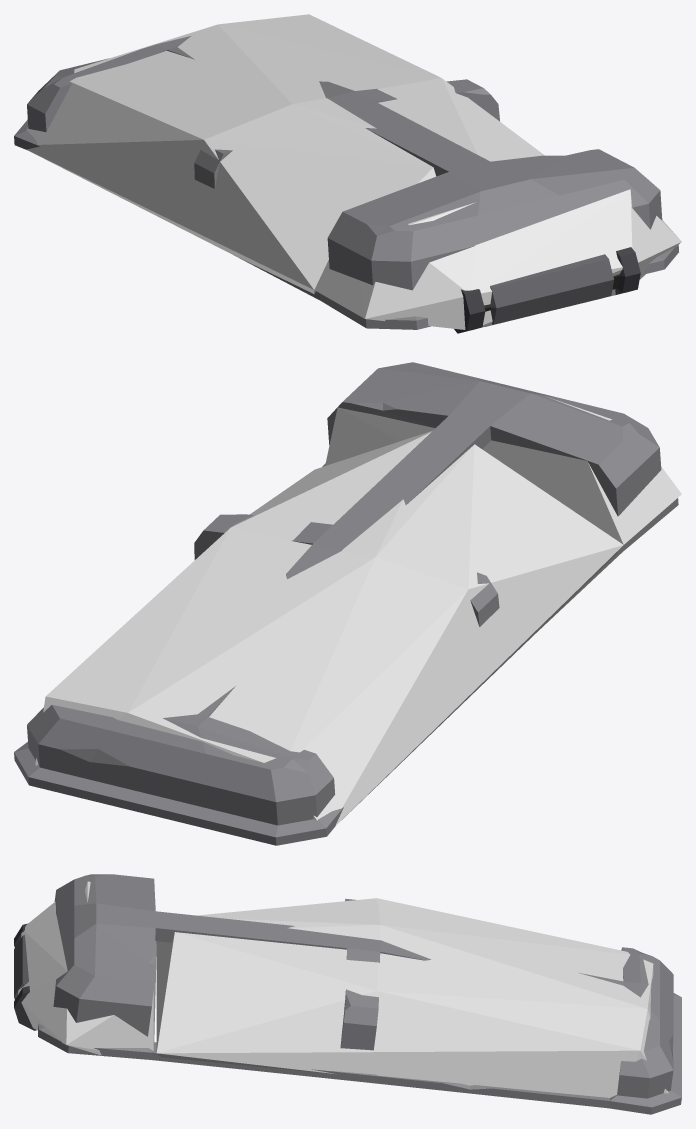
The model's file is SM_Prop_CryoBed_Lid_01.fbx.
The picture shows the model from 3 angles, top to bottom: view 1: azimuth 30°, elevation 25°; view 2: azimuth 150°, elevation 25°; view 3: azimuth 270°, elevation 25°; orthographic projection. The views are drawn at different scales.
Visible parts, largest first — view 1: SM_Prop_CryoBed_Lid_01_ConvexHulls, SM_Prop_CryoBed_Lid_01_LOD0; view 2: SM_Prop_CryoBed_Lid_01_ConvexHulls, SM_Prop_CryoBed_Lid_01_LOD0; view 3: SM_Prop_CryoBed_Lid_01_ConvexHulls, SM_Prop_CryoBed_Lid_01_LOD0.
Part boxes in pixels (box(x1,y1,x2,y2)): SM_Prop_CryoBed_Lid_01_ConvexHulls: box(26, 14, 681, 329); SM_Prop_CryoBed_Lid_01_LOD0: box(14, 36, 678, 333); SM_Prop_CryoBed_Lid_01_ConvexHulls: box(35, 397, 681, 826); SM_Prop_CryoBed_Lid_01_LOD0: box(14, 362, 678, 845); SM_Prop_CryoBed_Lid_01_ConvexHulls: box(18, 881, 668, 1097); SM_Prop_CryoBed_Lid_01_LOD0: box(14, 874, 681, 1114).
Bounding box in the file's own units: 298 × 135 × 69.45.
Materials: 1 (1 with a texture image).
